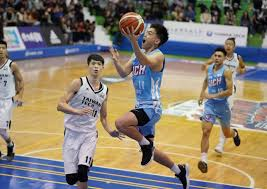people: (116, 25, 189, 189), (58, 55, 108, 189), (199, 49, 240, 172), (1, 41, 25, 161), (209, 38, 244, 114)
